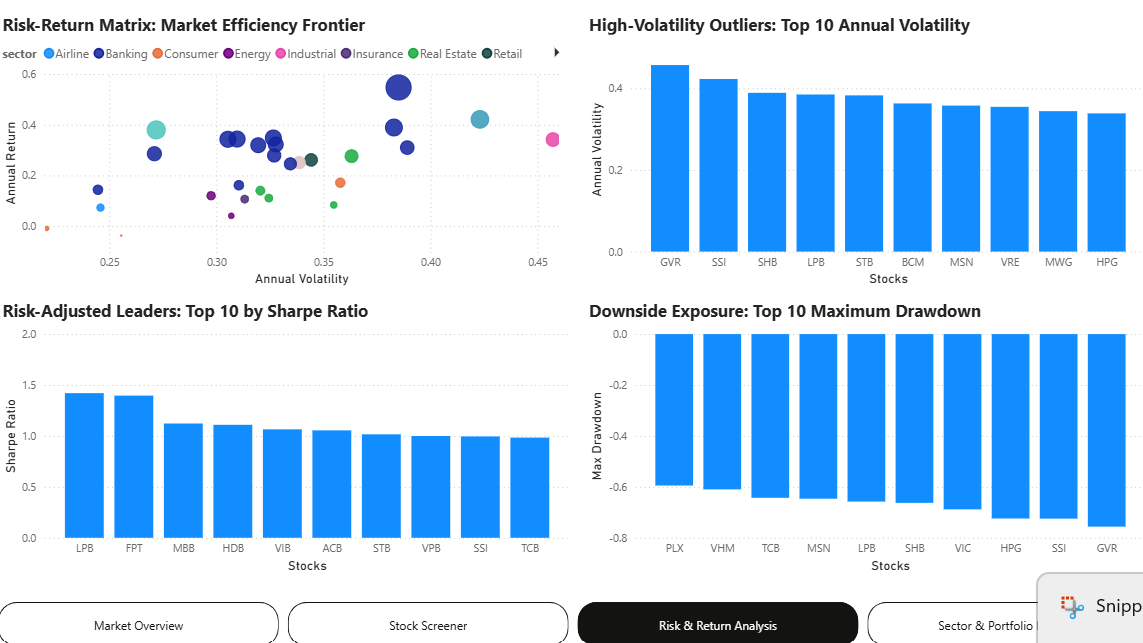

Layout of this report page (visuals, bound fields, positions):
{"tool":"powerbi","page":{"name":"Risk & Return Analysis","canvas":[1280,720],"ordinal":2},"visuals":[{"type":"pageNavigator","box":[0,670,1280,50],"z":0},{"type":"scatterChart","title":"Risk-Return Matrix: Market Efficiency Frontier","fields":{"X":["Sum(risk_metrics.annual_volatility)"],"Y":["Sum(risk_metrics.annual_return)"],"Series":["risk_metrics.sector"],"Size":["Sum(risk_metrics.total_return)"],"Category":["risk_metrics.ticker"]},"box":[0,15,640,308.3],"z":1},{"type":"clusteredColumnChart","title":"Risk-Adjusted Leaders: Top 10 by Sharpe Ratio","fields":{"Category":["risk_metrics.ticker"],"Y":["Sum(risk_metrics.sharpe_ratio)"]},"box":[0,333,640,308],"z":2},{"type":"clusteredColumnChart","title":"High-Volatility Outliers: Top 10 Annual Volatility","fields":{"Category":["risk_metrics.ticker"],"Y":["Sum(risk_metrics.annual_volatility)"]},"box":[651.7,15,628.3,308.3],"z":3},{"type":"clusteredColumnChart","title":"Downside Exposure: Top 10 Maximum Drawdown","fields":{"Category":["risk_metrics.ticker"],"Y":["Sum(risk_metrics.max_drawdown)"]},"box":[652,333,628,308],"z":4}]}

Visuals, with their boxes on the page's 1280x720 design canvas (x1, y1, x2, y2). These are canvas units, not pixel positions in the 1143x643 screenshot, which may show the page scaled, cropped or inside an application window:
pageNavigator: (0, 670, 1280, 720)
"Risk-Return Matrix: Market Efficiency Frontier" scatterChart: (0, 15, 640, 323)
"Risk-Adjusted Leaders: Top 10 by Sharpe Ratio" clusteredColumnChart: (0, 333, 640, 641)
"High-Volatility Outliers: Top 10 Annual Volatility" clusteredColumnChart: (652, 15, 1280, 323)
"Downside Exposure: Top 10 Maximum Drawdown" clusteredColumnChart: (652, 333, 1280, 641)
